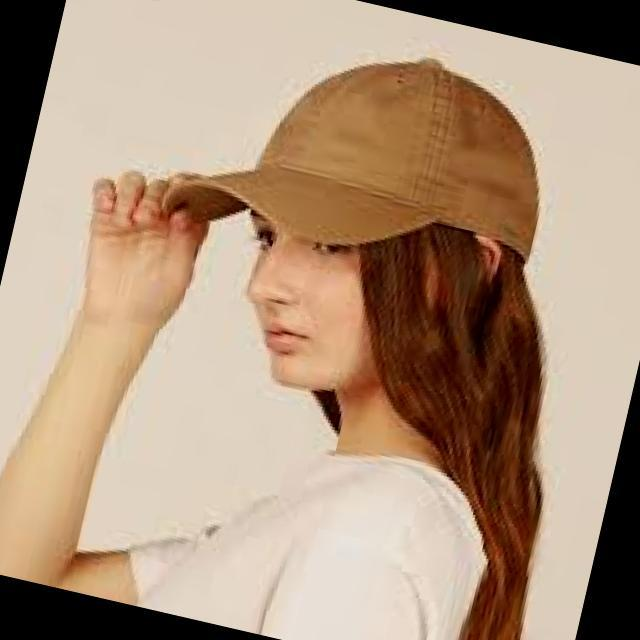cap: (127, 0, 610, 343)
